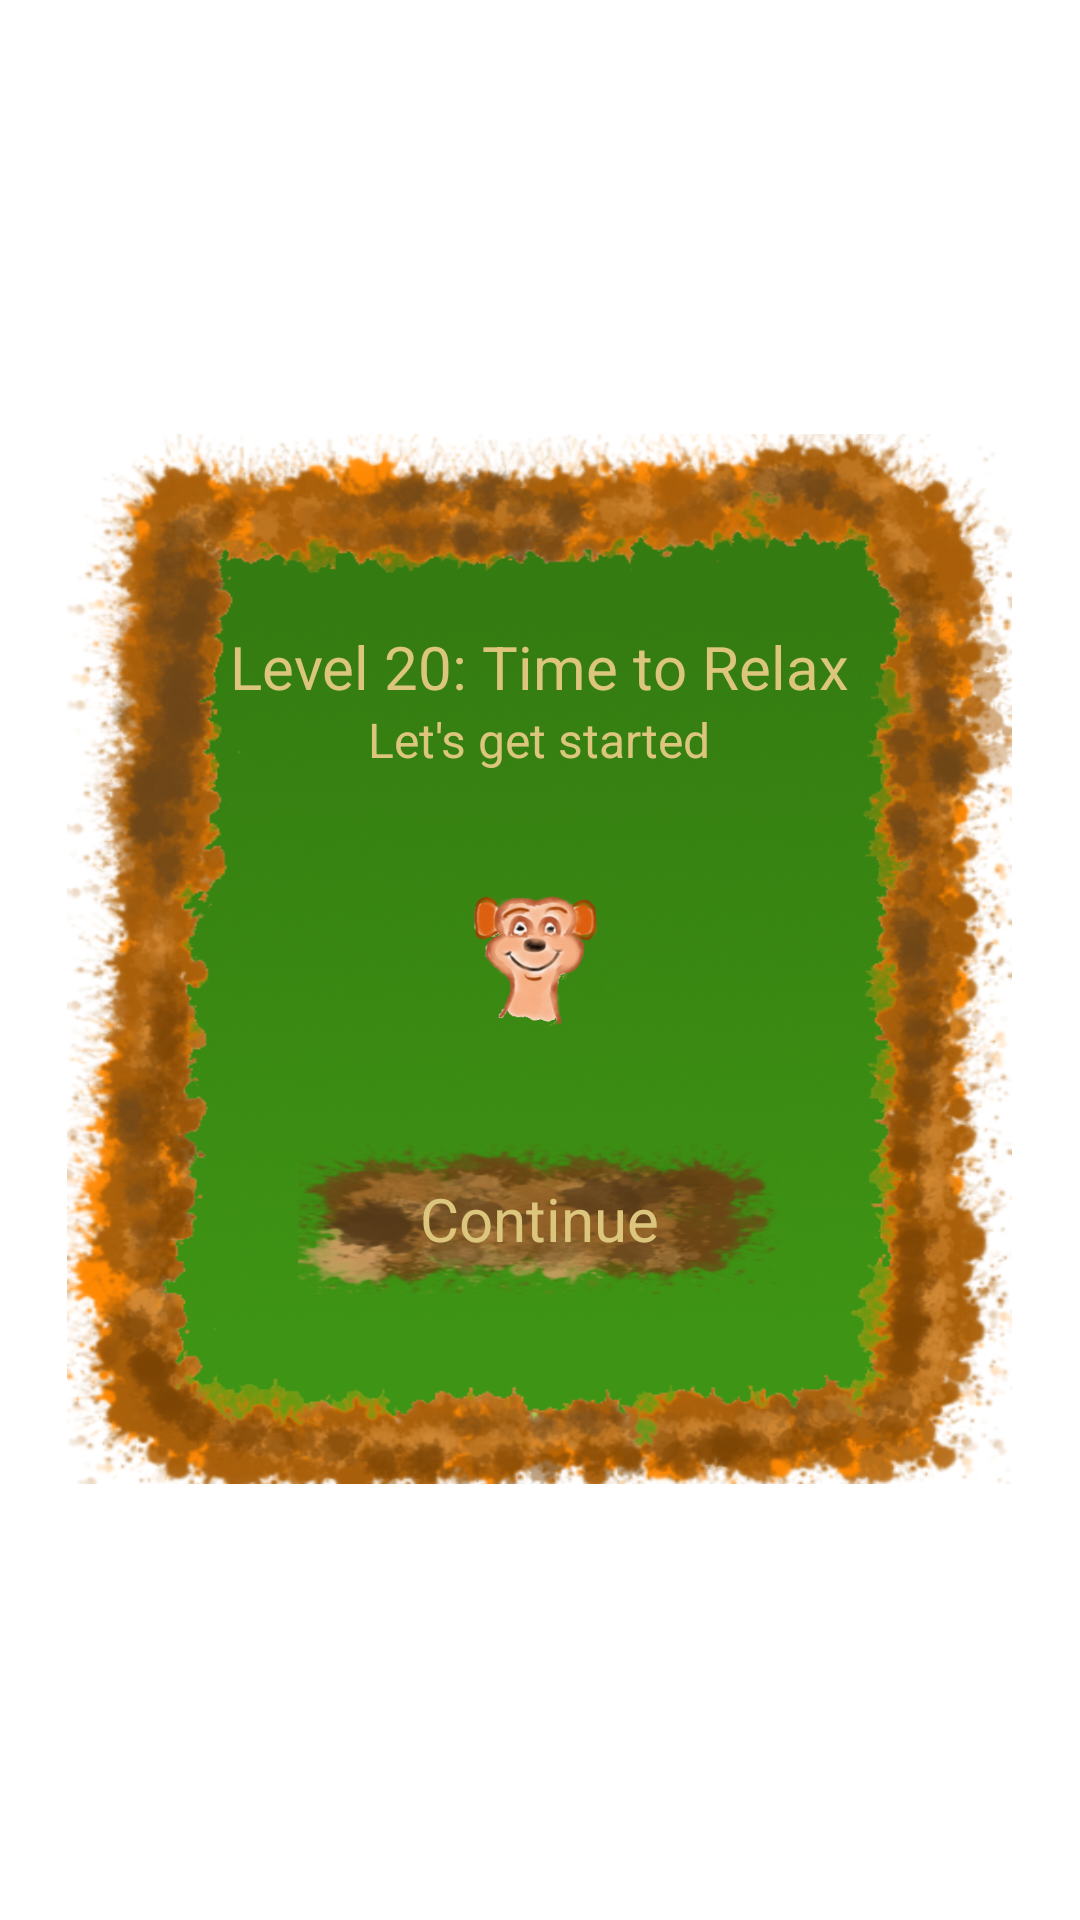

Icons on this 1080 x 1920 Android screen, each with the point to tap as [x,y]:
Meerkat: [536,961]
